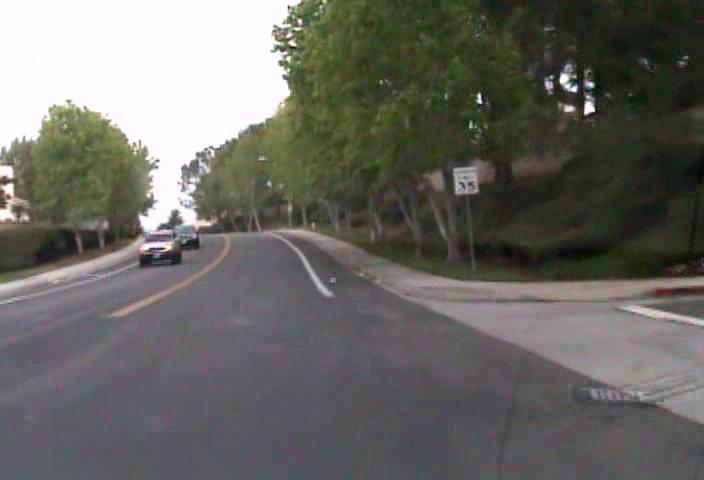speedLimit35: (452, 164, 479, 195)
